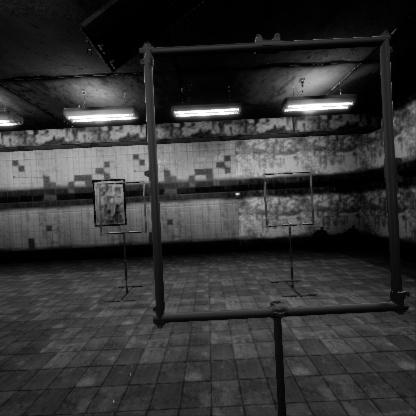gate: (143, 90, 416, 380), (263, 188, 318, 245), (98, 180, 151, 235)
